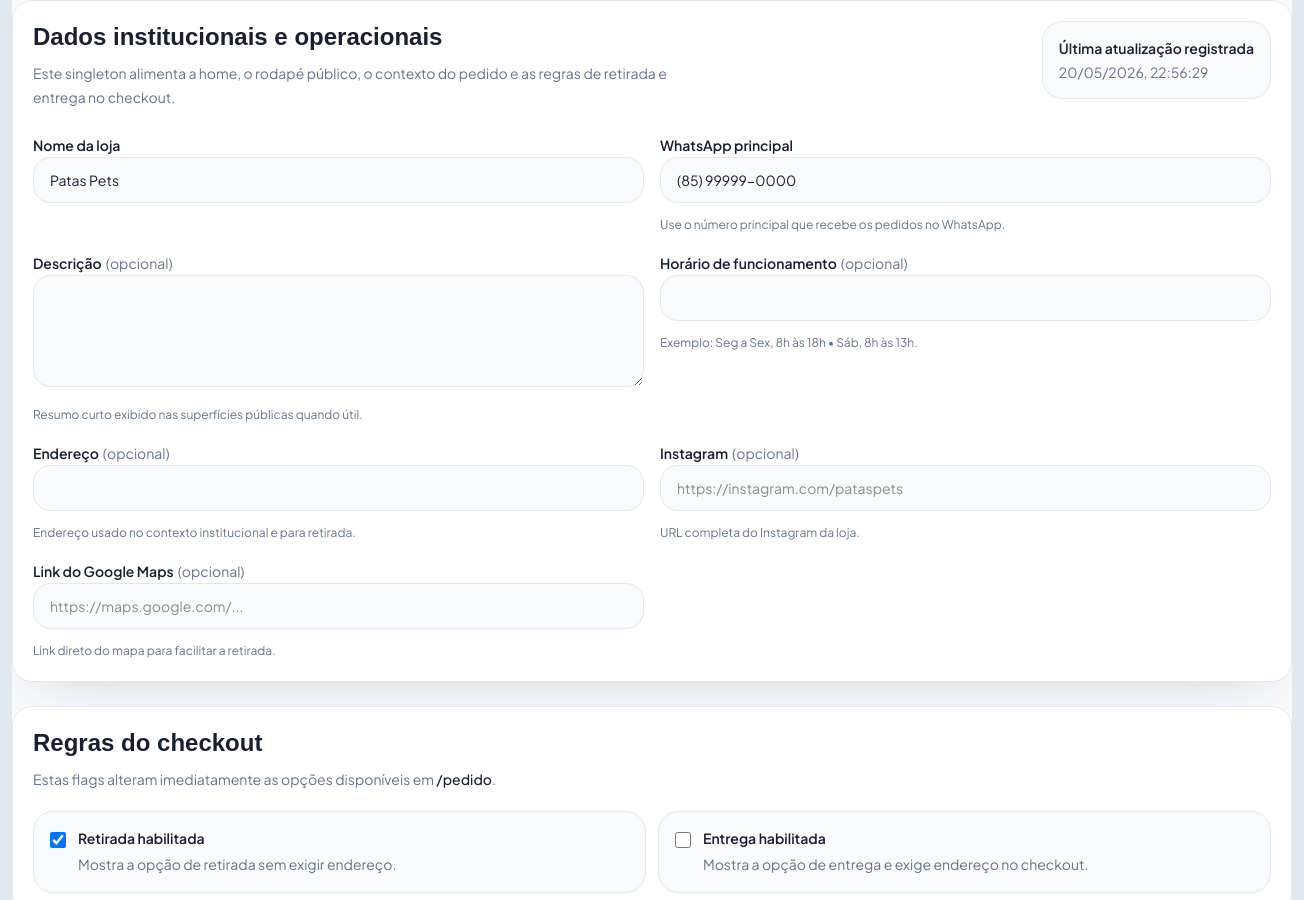
Test case: StoreSettingsManager › shows server feedback when the save fails
Replace the text in the field labelled "Nome da loja" with "Patas Pets Nova". click: (338, 180)
box: 33,157 -> 644,203
(page scrolled)
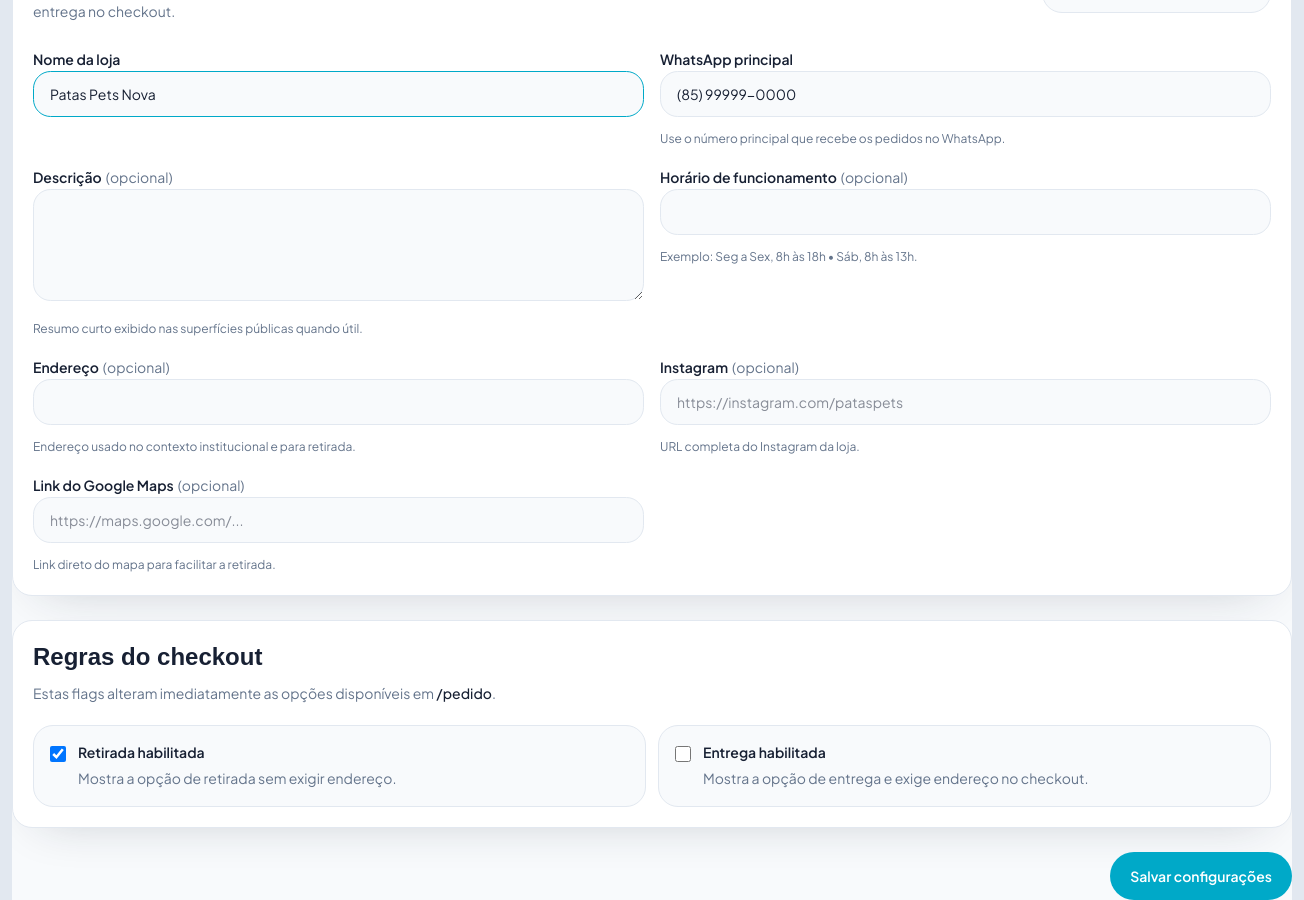
Click the button "Salvar configurações". click: (1201, 876)
box: 1110,852 -> 1292,899
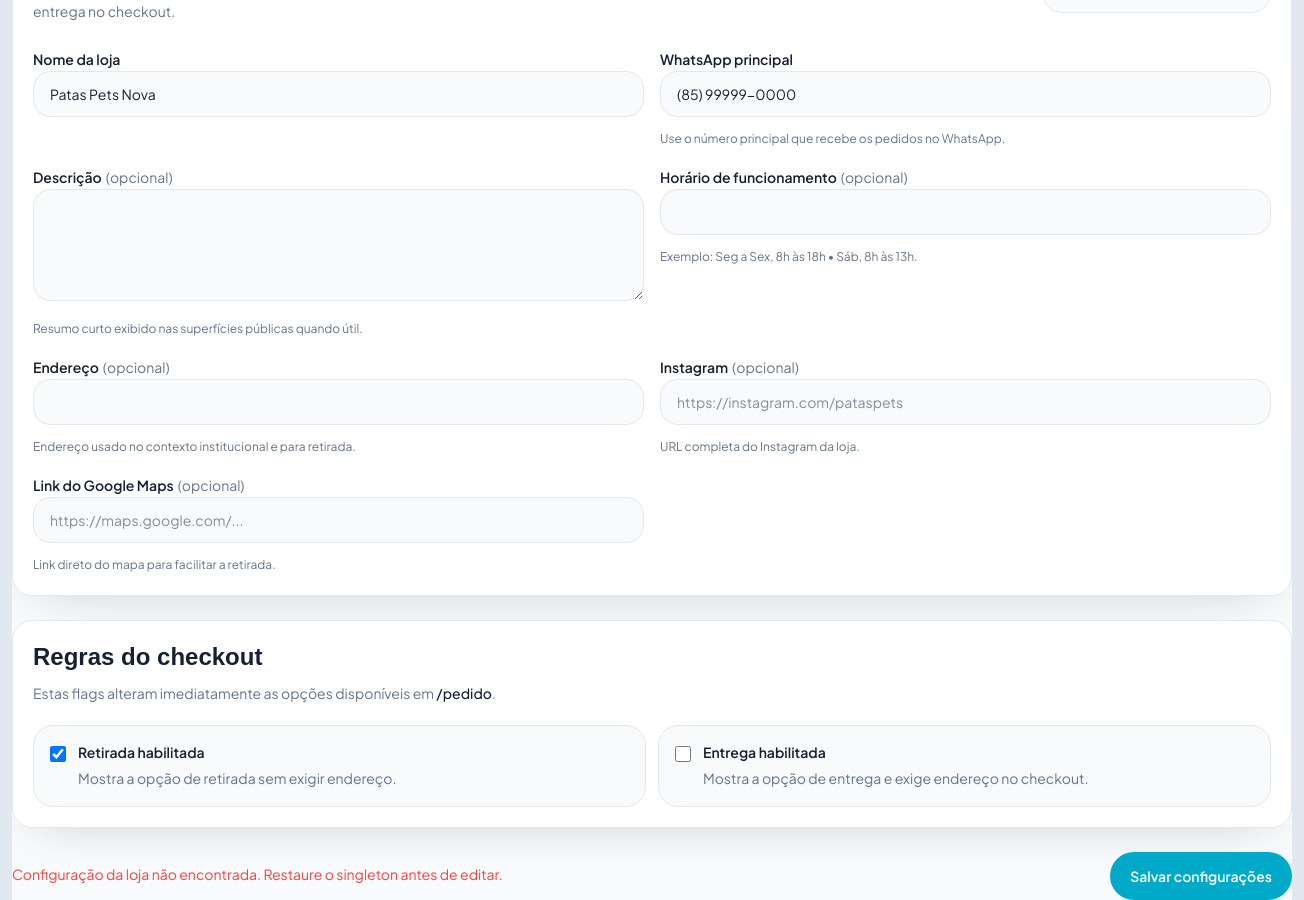
Expected: the text "Restaure o singleton antes de editar" is shown, 12,865 -> 503,883
